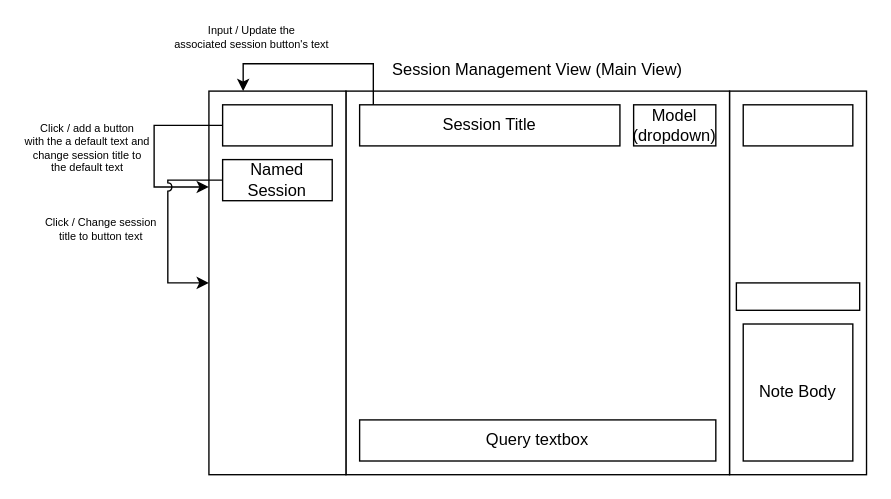
Image size: 891x499. Some labels were removed from this diagram. The shapes that lost their labels are listed below. From the top down, each one's centre as x and y in pixels, then its label:
At (x=276, y=124): "Create Session".
At (x=797, y=124): "Create Note".
At (x=797, y=296): "Note Title".
